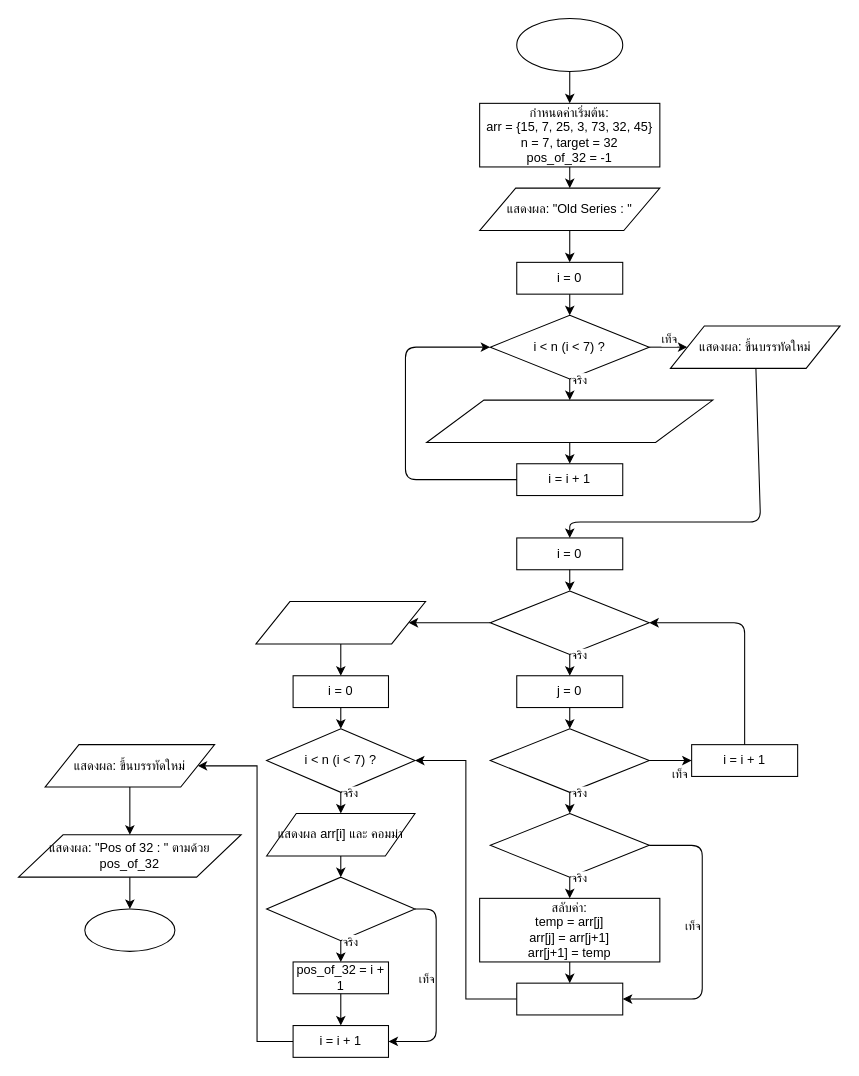
This 859x1076 diagram has some shape labels left out. The centre of each missing label's shape, as x and y in pixels:
arr[i] == target (32) ?: (340,908)
arr[j] > arr[j + 1] ?: (569,844)
i < n - 1 (i < 6) ?: (569,622)
j < n - i - 1 ?: (569,760)
j = j + 1: (569,998)
จบ: (129,929)
เริ่ม: (569,44)
แสดงผล arr[i] และ คอมม่า (ถ้าไม่ใช่ตัวสุดท้าย): (569,421)
แสดงผล: "New Series : ": (340,622)
